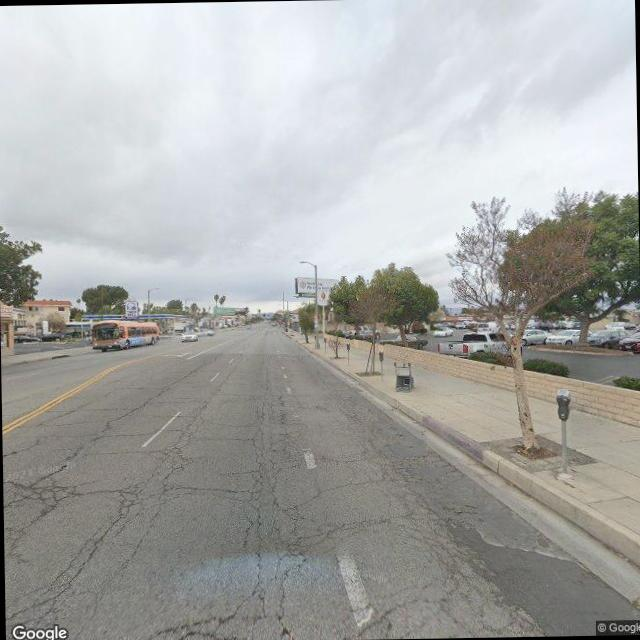crack: (2, 388, 496, 640)
